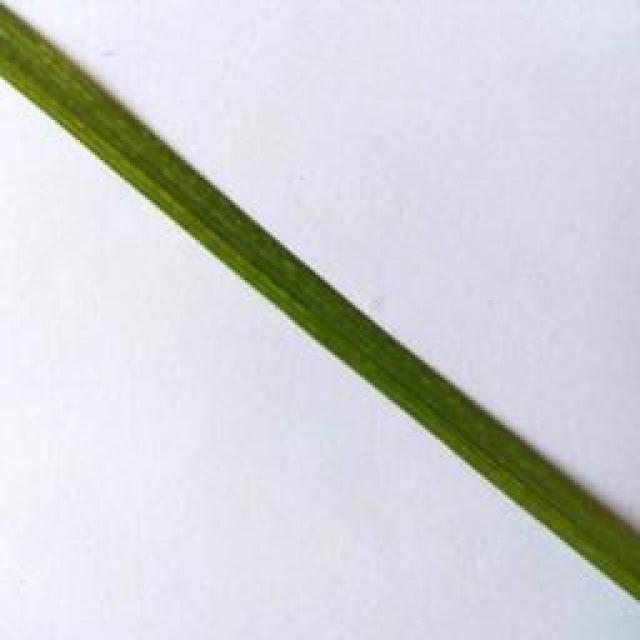Healthy-Plant: (0, 5, 640, 602)
